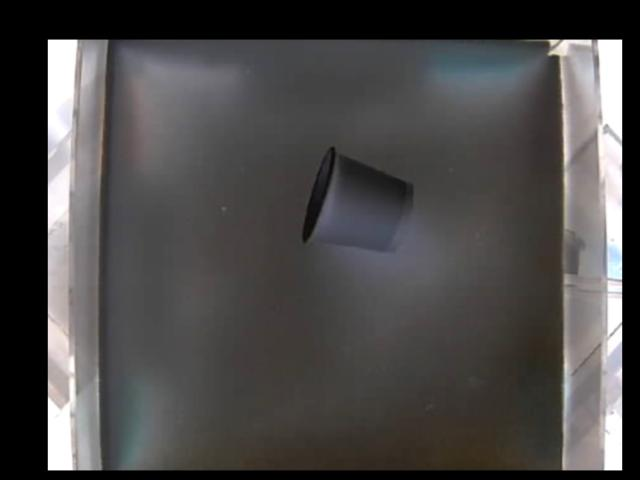Cup: (303, 146, 416, 254)
